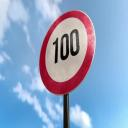speed_limit_100: (38, 3, 96, 98)
